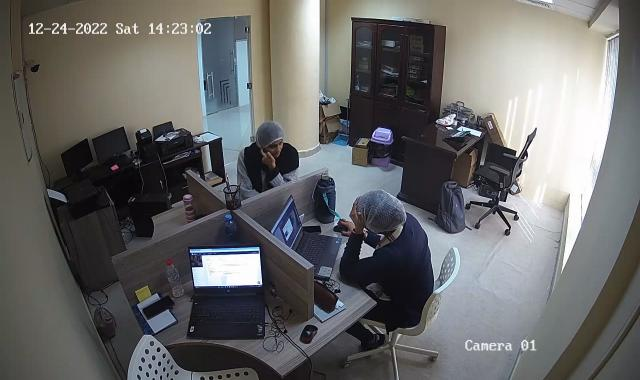hairnet: (360, 190, 405, 235), (252, 122, 288, 152)
